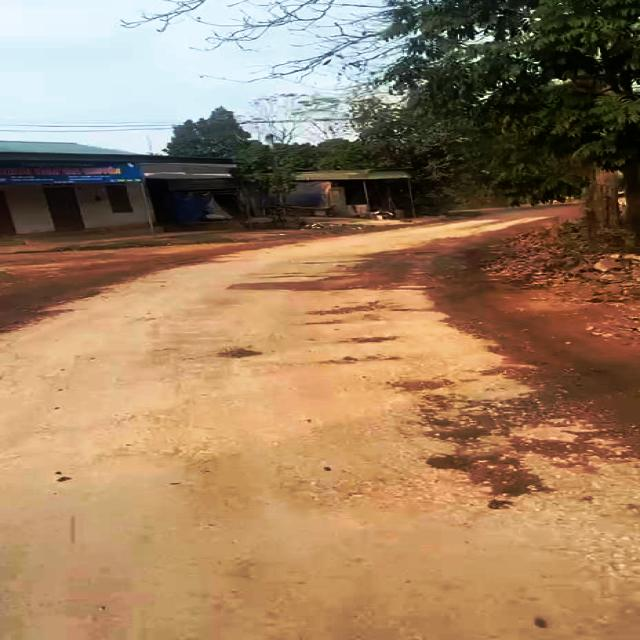pothole: (398, 379, 634, 504)
